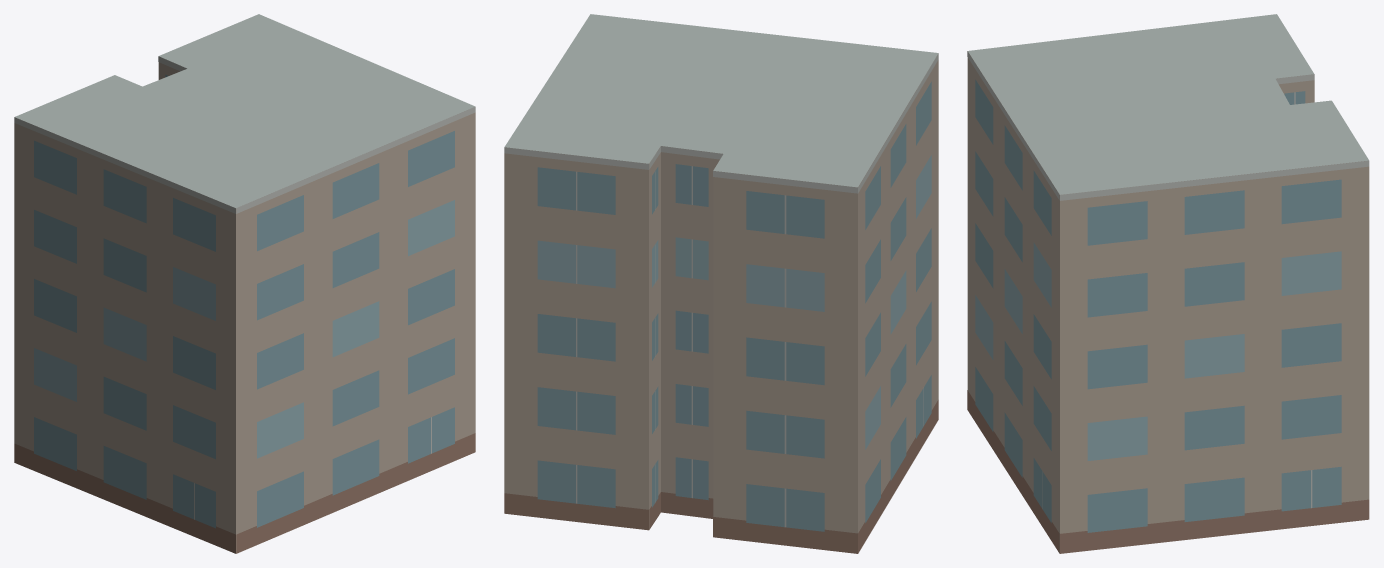
File: survey-upis-32713742.glb
3 views of the same model, side by side, from view 1: azimuth 30°, elevation 25°; view 2: azimuth 150°, elevation 25°; view 3: azimuth 270°, elevation 25° (orthographic). The views are drawn at different scales.
Parts seen in each view (by area): view 1: survey-upis-32713742.tmp; view 2: survey-upis-32713742.tmp; view 3: survey-upis-32713742.tmp.
Part boxes in pixels (left/top/right/bottom): survey-upis-32713742.tmp: left=14, top=14, right=475, bottom=553; survey-upis-32713742.tmp: left=504, top=14, right=938, bottom=553; survey-upis-32713742.tmp: left=967, top=14, right=1369, bottom=553.
Size of the model in its own units: 15.68 by 14.5 by 14.72.
